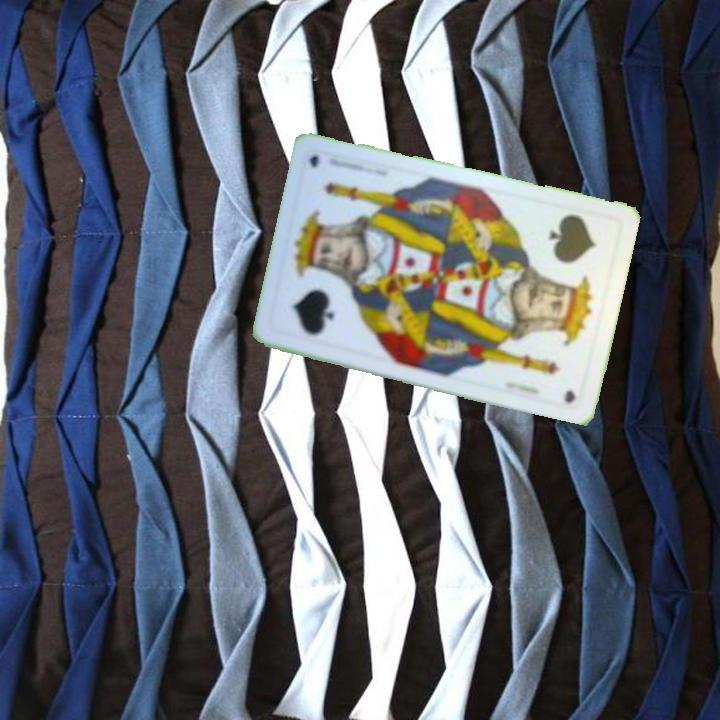s_k.png: (267, 240, 372, 355), (518, 200, 623, 315)
